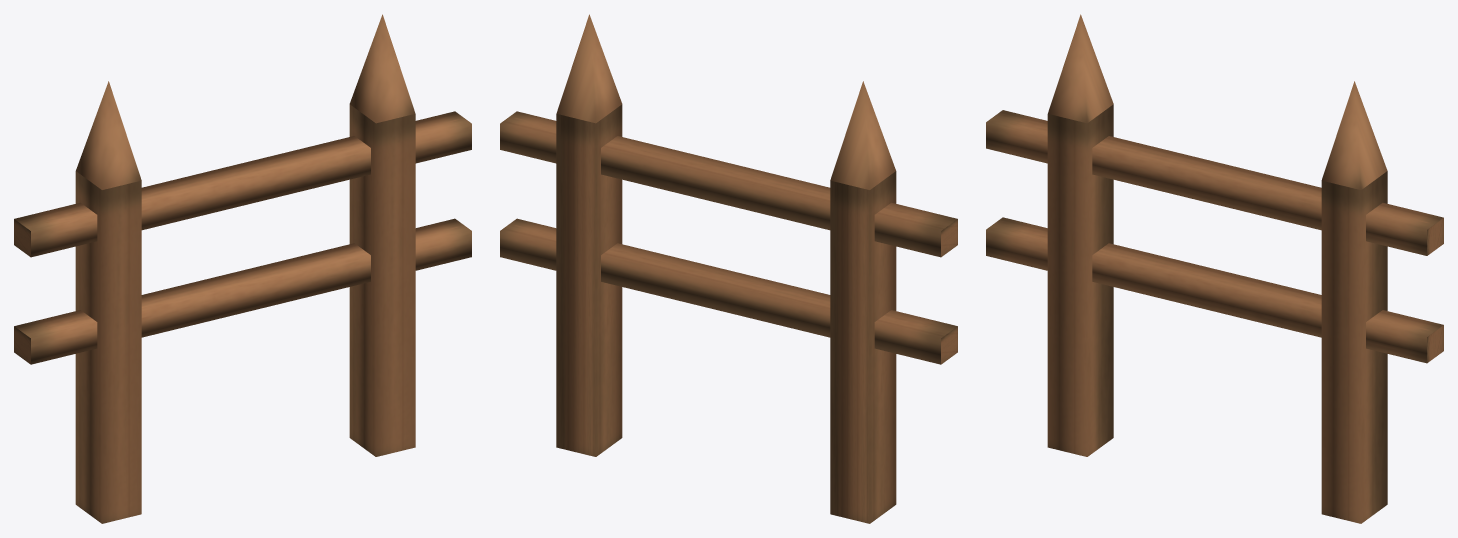
File: Fence  5.fbx
3 renders of one model, left to right at view 1: azimuth 30°, elevation 25°; view 2: azimuth 150°, elevation 25°; view 3: azimuth 330°, elevation 25°, orthographic.
Visible parts, largest first — view 1: Fence 5; view 2: Fence 5; view 3: Fence 5.
Boxes of the visible parts, x1,y1,x2,y2 form: Fence 5: [14, 14, 471, 523]; Fence 5: [500, 14, 957, 523]; Fence 5: [986, 14, 1443, 523].
Size of the model in its own units: 88.3 by 82.03 by 9.14.
